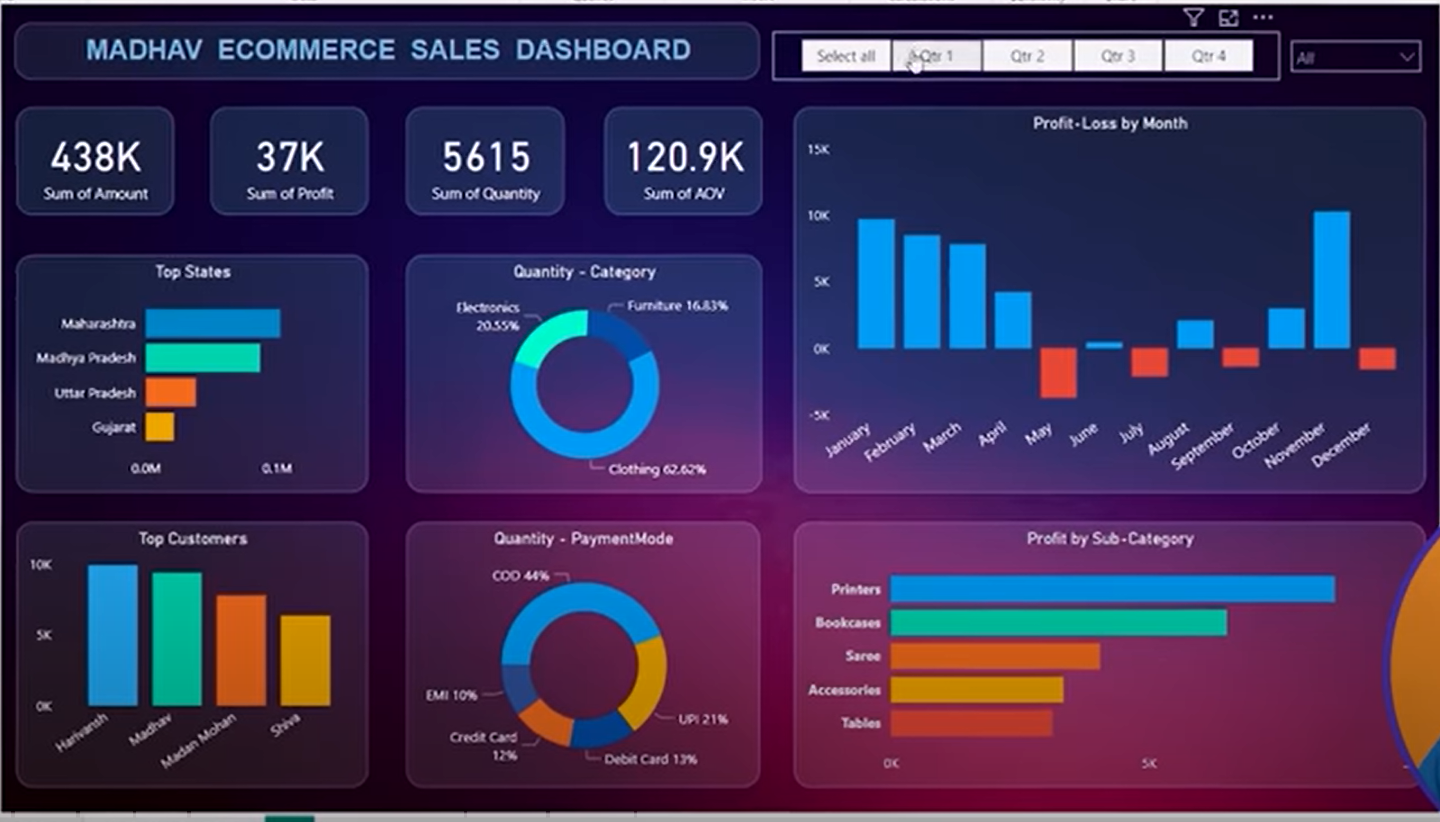

Layout of this report page (visuals, bound fields, positions):
{"tool":"powerbi","page":{"name":"Page 1","canvas":[1280,720],"ordinal":0},"visuals":[{"type":"card","fields":{"Values":["Details.Amount"]},"box":[11,94.7,145.5,131.7],"z":0},{"type":"textbox","box":[11,16.5,666.9,61.7],"z":1},{"type":"card","fields":{"Values":["Details.Profit"]},"box":[181.1,94.7,145.5,131.7],"z":2},{"type":"card","fields":{"Values":["Details.Quantity"]},"box":[351.3,94.7,142.7,131.7],"z":3},{"type":"card","fields":{"Values":["Details.AOV"]},"box":[518.7,94.7,159.2,131.7],"z":4},{"type":"clusteredBarChart","title":"Top State","fields":{"Y":["Details.Amount"],"Category":["Orders.State"]},"box":[11,244.3,315.6,218.2],"z":5},{"type":"clusteredColumnChart","title":"Top Customers","fields":{"Category":["Orders.CustomerName"],"Y":["Details.Amount"]},"box":[11,483,315.6,218.2],"z":6},{"type":"donutChart","title":"Quantity - Category","fields":{"Y":["Details.Quantity"],"Category":["Details.Category"]},"box":[362.3,244.3,315.6,218.2],"z":7},{"type":"donutChart","title":"Quantity - PaymentMode","fields":{"Y":["Details.Quantity"],"Category":["Details.PaymentMode"]},"box":[362.3,483,315.6,218.2],"z":8},{"type":"clusteredColumnChart","title":"Profit - Loss by Month","fields":{"Category":["Orders.Order Date.Variation.Date Hierarchy.Month"],"Y":["Details.Profit"]},"box":[712.2,94.7,558.5,367.8],"z":9},{"type":"slicer","fields":{"Values":["Orders.Order Date.Variation.Date Hierarchy.Quarter"]},"box":[701.2,16.5,429.5,61.7],"z":10},{"type":"slicer","fields":{"Values":["Orders.State"]},"box":[1145.8,16.5,124.9,61.7],"z":11},{"type":"clusteredBarChart","title":"Profit by Sub-Category","fields":{"Category":["Details.Sub-Category"],"Y":["Details.Profit"]},"box":[712.2,483,558.5,218.2],"z":12}]}

Visuals, with their boxes on the page's 1280x720 design canvas (x1, y1, x2, y2). These are canvas units, not pixel positions in the 1440x822 screenshot, which may show the page scaled, cropped or inside an application window:
card - Details.Amount: BBox(11, 95, 156, 226)
textbox: BBox(11, 16, 678, 78)
card - Details.Profit: BBox(181, 95, 327, 226)
card - Details.Quantity: BBox(351, 95, 494, 226)
card - Details.AOV: BBox(519, 95, 678, 226)
"Top State" clusteredBarChart: BBox(11, 244, 327, 462)
"Top Customers" clusteredColumnChart: BBox(11, 483, 327, 701)
"Quantity - Category" donutChart: BBox(362, 244, 678, 462)
"Quantity - PaymentMode" donutChart: BBox(362, 483, 678, 701)
"Profit - Loss by Month" clusteredColumnChart: BBox(712, 95, 1271, 462)
slicer - Orders.Order Date.Variation.Date Hierarchy.Quarter: BBox(701, 16, 1131, 78)
slicer - Orders.State: BBox(1146, 16, 1271, 78)
"Profit by Sub-Category" clusteredBarChart: BBox(712, 483, 1271, 701)
